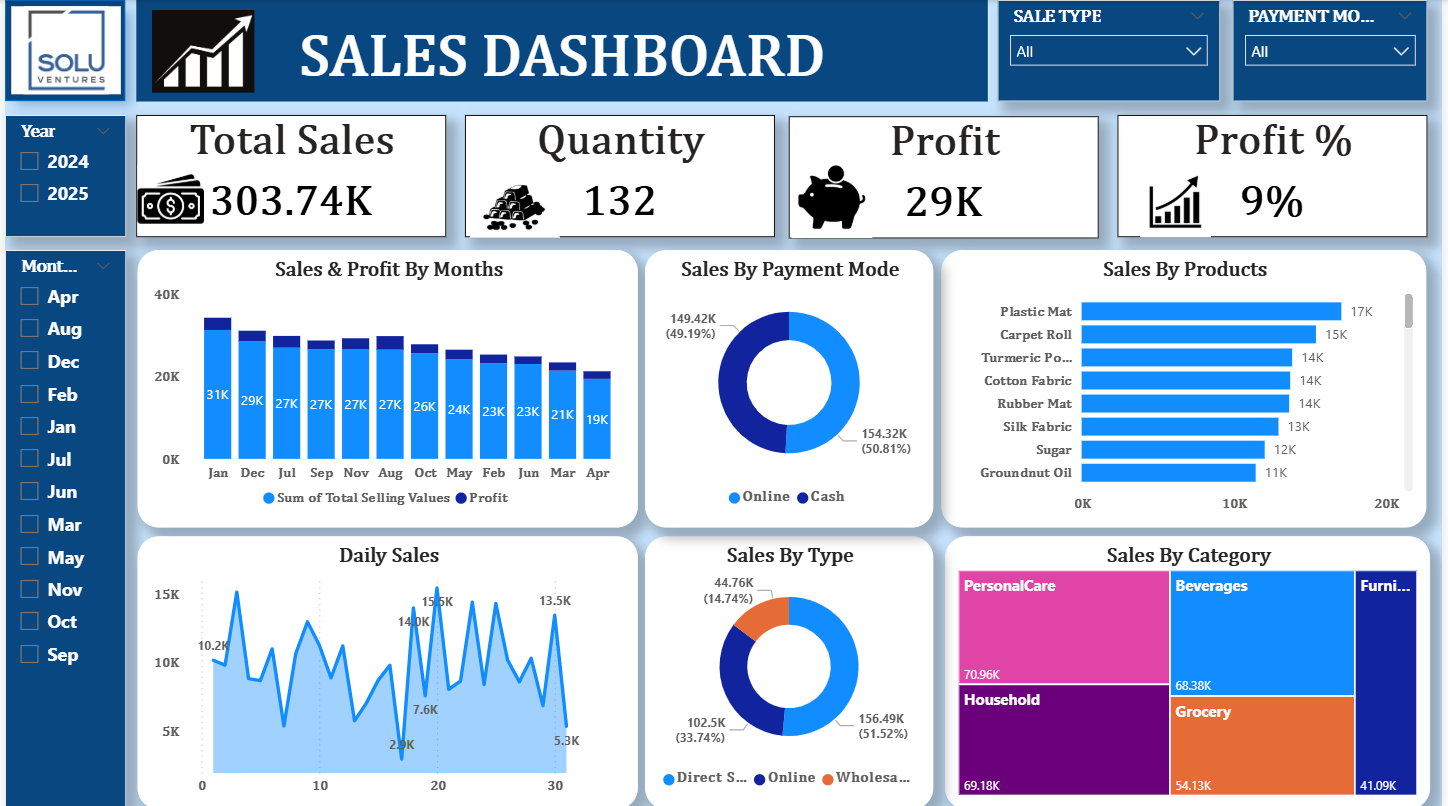

The dashboard page shown, as its layout file describes it:
{"tool":"powerbi","page":{"name":"Page 1","canvas":[1280,720],"ordinal":0},"visuals":[{"type":"group","id":"g1","title":"Group 1","box":[0,0,107,90],"z":0},{"type":"shape","box":[0,0,107,90],"z":0,"group":"g1"},{"type":"textbox","box":[117.4,0,758,90],"z":0,"group":"g2"},{"type":"group","id":"g2","title":"Group 2","box":[117.4,0,758.2,90.5],"z":1000},{"type":"image","box":[5.8,5.6,97.4,78.8],"z":1000,"group":"g1"},{"type":"image","box":[127.6,8.5,99,73.4],"z":1000,"group":"g2"},{"type":"slicer","fields":{"Values":["InputData.Year"]},"box":[0,102.7,107.6,108.8],"z":2000},{"type":"slicer","fields":{"Values":["InputData.Month Name"]},"box":[0,222.6,107.6,497.7],"z":3000},{"type":"slicer","fields":{"Values":["InputData.SALE TYPE"]},"box":[884.1,0,198.1,90.5],"z":4000},{"type":"slicer","fields":{"Values":["InputData.PAYMENT MODE"]},"box":[1093.2,0,173.6,90.5],"z":5000},{"type":"card","title":"Total Sales","fields":{"Values":["Sum(InputData.Total Selling Values)"]},"box":[117.4,102.7,276.4,108.8],"z":6000},{"type":"card","title":"Quantity","fields":{"Values":["Sum(InputData.QUANTITY)"]},"box":[409.6,102.7,276.4,108.8],"z":7000},{"type":"card","title":"Profit %","fields":{"Values":["InputData.Profit %"]},"box":[990.5,102.7,276.4,108.8],"z":8000},{"type":"card","title":"Profit","fields":{"Values":["InputData.Profit"]},"box":[698.2,103.9,276.4,108.8],"z":9000},{"type":"image","box":[118,144.1,59,67.2],"z":10000},{"type":"image","box":[410.3,157.8,86.4,53.5],"z":11000},{"type":"image","box":[990.7,148.2,102.9,63.1],"z":12000},{"type":"image","box":[698.5,138.6,76.8,72.7],"z":13000},{"type":"columnChart","title":"Sales & Profit By Months","fields":{"Category":["InputData.Month Name"],"Y":["Sum(InputData.Total Selling Values)","InputData.Profit"]},"box":[118,222.3,446,247],"z":14000},{"type":"areaChart","title":"Daily Sales","fields":{"Y":["Sum(InputData.Total Selling Values)"],"Category":["InputData.DATE.Variation.Date Hierarchy.Day"]},"box":[118,477.5,446,242.9],"z":14001},{"type":"clusteredBarChart","title":"Sales By Products","fields":{"Category":["InputData.MasterData.PRODUCT"],"Y":["Sum(InputData.Total Selling Values)"]},"box":[834.3,222.3,432.2,247],"z":14002},{"type":"treemap","title":"Sales By Category","fields":{"Group":["InputData.MasterData.CATEGORY"],"Values":["Sum(InputData.Total Selling Values)"]},"box":[837.1,477.5,432.2,242.9],"z":14003},{"type":"donutChart","title":"Sales By Type","fields":{"Series":["InputData.SALE TYPE"],"Y":["Sum(InputData.Total Selling Values)"]},"box":[569.5,477.5,256.6,242.9],"z":14004},{"type":"donutChart","title":"Sales By Payment Mode","fields":{"Y":["Sum(InputData.Total Selling Values)"],"Category":["InputData.PAYMENT MODE"]},"box":[569.5,222.3,256.6,247],"z":14005}]}

Visuals, with their boxes in screenshot pixels (x1, y1, x2, y2), scaled from the page's 1280x720 canvas onto the 1448x806 screenshot:
"Group 1" group: bbox=[0, 0, 121, 101]
shape: bbox=[0, 0, 121, 101]
textbox: bbox=[133, 0, 990, 101]
"Group 2" group: bbox=[133, 0, 991, 101]
image: bbox=[7, 6, 117, 94]
image: bbox=[144, 10, 256, 92]
slicer - InputData.Year: bbox=[0, 115, 122, 237]
slicer - InputData.Month Name: bbox=[0, 249, 122, 805]
slicer - InputData.SALE TYPE: bbox=[1000, 0, 1224, 101]
slicer - InputData.PAYMENT MODE: bbox=[1237, 0, 1433, 101]
"Total Sales" card: bbox=[133, 115, 445, 237]
"Quantity" card: bbox=[463, 115, 776, 237]
"Profit %" card: bbox=[1121, 115, 1433, 237]
"Profit" card: bbox=[790, 116, 1103, 238]
image: bbox=[133, 161, 200, 237]
image: bbox=[464, 177, 562, 237]
image: bbox=[1121, 166, 1237, 237]
image: bbox=[790, 155, 877, 237]
"Sales & Profit By Months" columnChart: bbox=[133, 249, 638, 525]
"Daily Sales" areaChart: bbox=[133, 535, 638, 805]
"Sales By Products" clusteredBarChart: bbox=[944, 249, 1433, 525]
"Sales By Category" treemap: bbox=[947, 535, 1436, 805]
"Sales By Type" donutChart: bbox=[644, 535, 935, 805]
"Sales By Payment Mode" donutChart: bbox=[644, 249, 935, 525]
